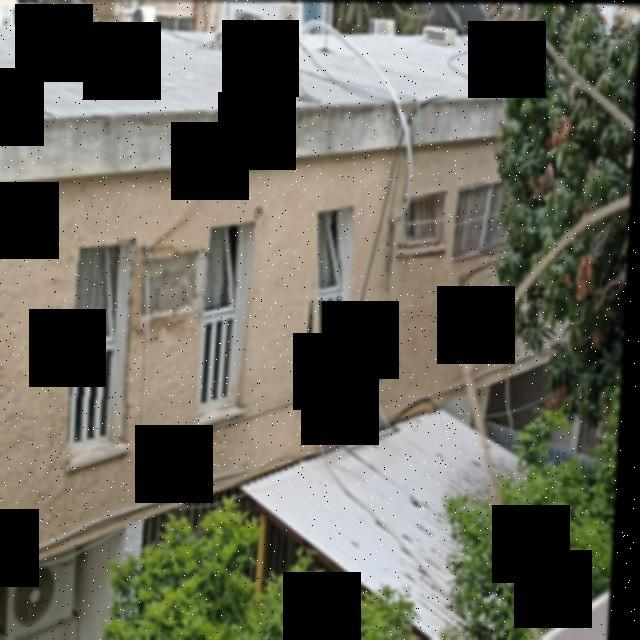Window: (72, 238, 134, 450), (196, 218, 259, 414), (302, 213, 358, 384), (459, 182, 522, 255), (398, 192, 451, 256)
